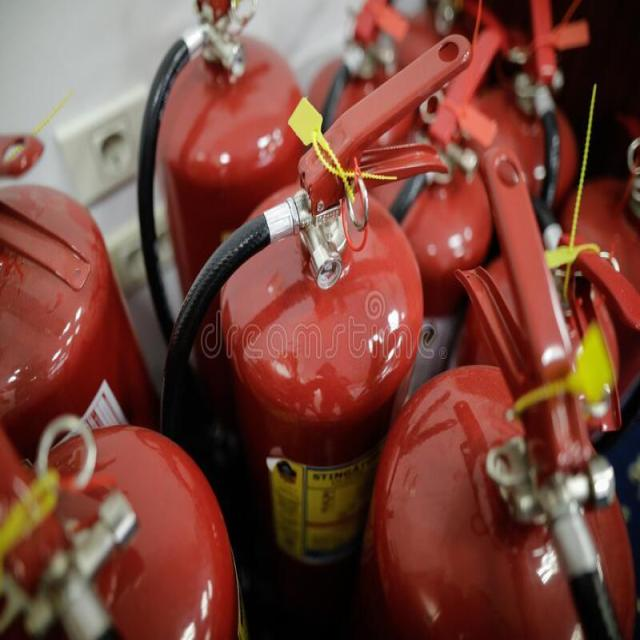fire_extinguisher: (141, 29, 481, 639), (327, 248, 639, 638), (124, 0, 315, 558), (434, 200, 640, 639), (419, 0, 595, 488), (0, 126, 176, 572), (0, 403, 258, 638), (522, 130, 640, 530)
